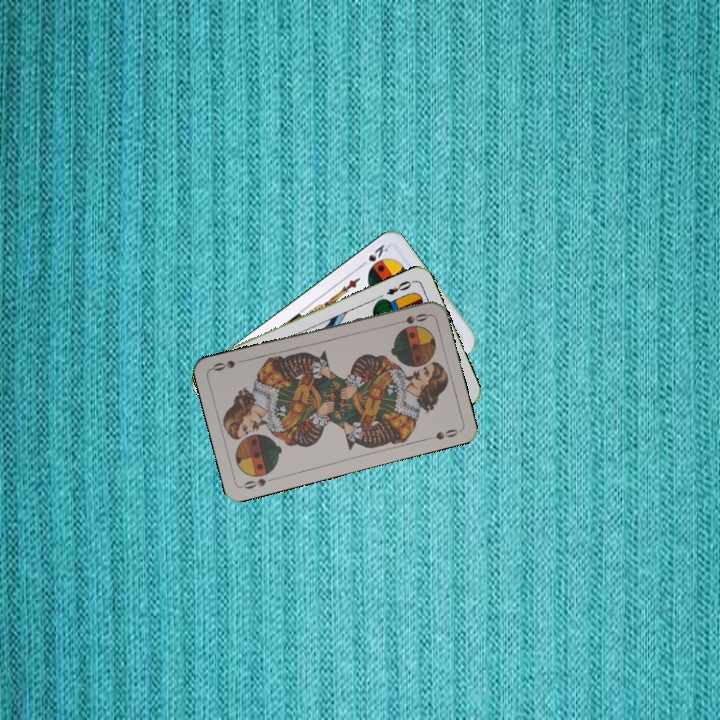EO: (382, 276, 417, 298)
SK: (355, 240, 391, 270)
SO: (391, 309, 431, 327), (239, 474, 278, 492)
